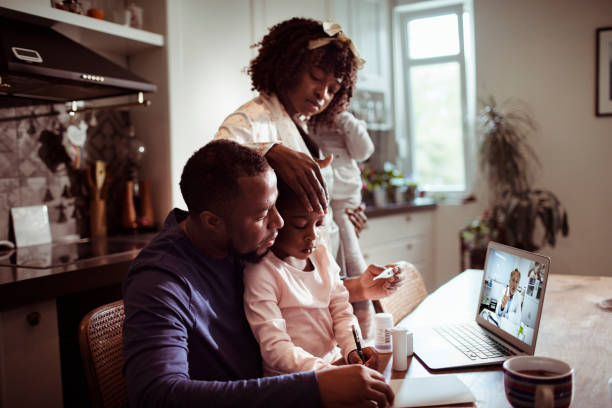without mask: (173, 146, 289, 267), (270, 188, 339, 263), (288, 44, 355, 120)
